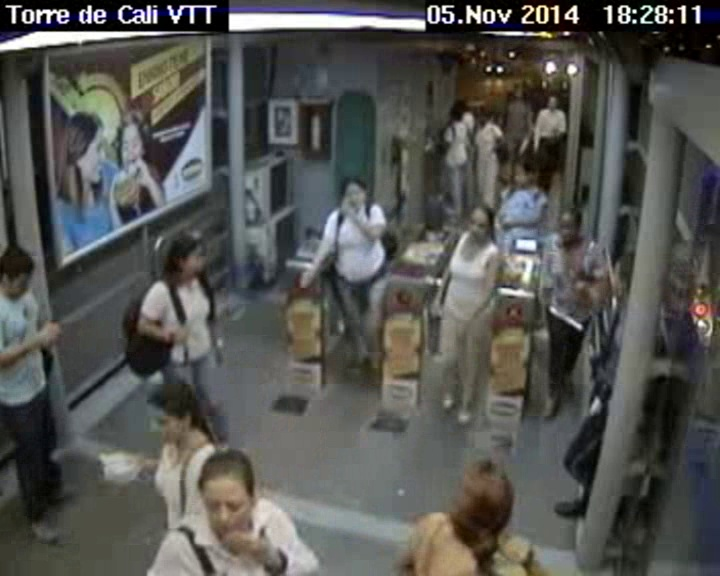person: (438, 444, 519, 556), (196, 445, 260, 547), (132, 377, 211, 455), (163, 235, 206, 286), (456, 202, 500, 248), (1, 251, 44, 298), (339, 175, 379, 221), (608, 252, 639, 296), (557, 206, 587, 244), (507, 155, 537, 190), (442, 105, 464, 123), (476, 110, 488, 127), (546, 94, 559, 109), (514, 88, 523, 98)
